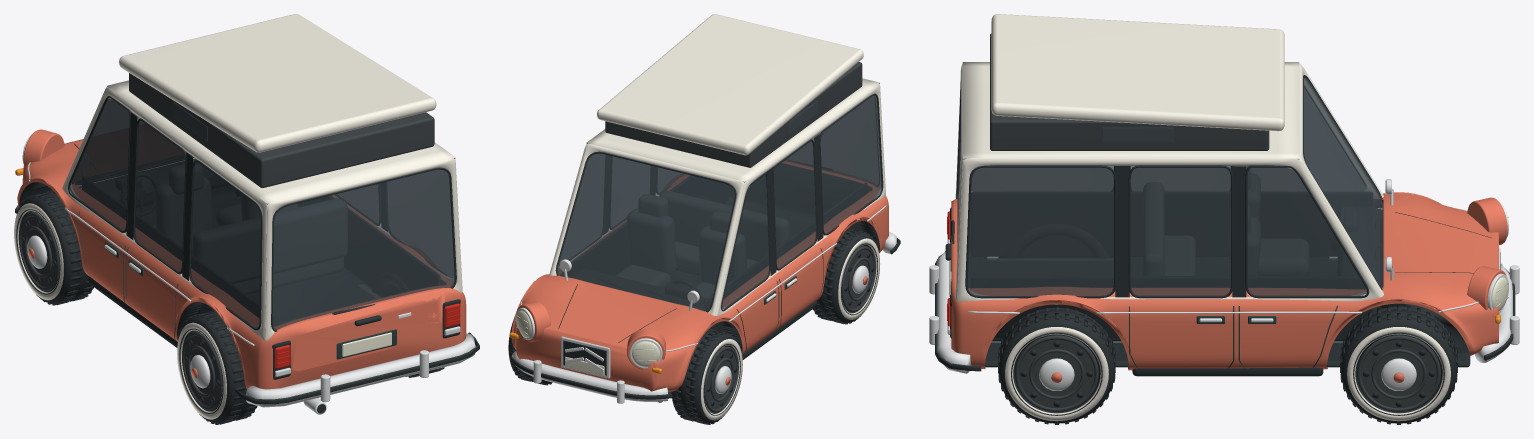
Rendered from camper.fbx.
The picture shows the model from 3 angles, left to right: view 1: azimuth 30°, elevation 25°; view 2: azimuth 150°, elevation 25°; view 3: azimuth 270°, elevation 25°; orthographic projection. The views are drawn at different scales.
Visible parts, largest first — view 1: Body, Wheel_FL_Mesh, Wheel_RL_Mesh, Wheel_RR_Mesh; view 2: Body, Wheel_FL_Mesh, Wheel_RL_Mesh, Wheel_FR_Mesh; view 3: Body, Wheel_FR_Mesh, Wheel_RR_Mesh, Wheel_RL_Mesh.
Boxes of the visible parts, bbox=[...] form: Body: bbox=[15, 14, 479, 414]; Wheel_FL_Mesh: bbox=[14, 190, 93, 305]; Wheel_RL_Mesh: bbox=[177, 310, 257, 424]; Wheel_RR_Mesh: bbox=[372, 272, 444, 377]; Body: bbox=[509, 14, 900, 403]; Wheel_FL_Mesh: bbox=[671, 328, 742, 424]; Wheel_RL_Mesh: bbox=[812, 228, 879, 324]; Wheel_FR_Mesh: bbox=[508, 317, 552, 385]; Body: bbox=[929, 14, 1519, 376]; Wheel_FR_Mesh: bbox=[1340, 305, 1457, 424]; Wheel_RR_Mesh: bbox=[998, 307, 1115, 424]; Wheel_RL_Mesh: bbox=[998, 224, 1113, 258].
Size of the model in its own units: 207 by 240 by 414.
